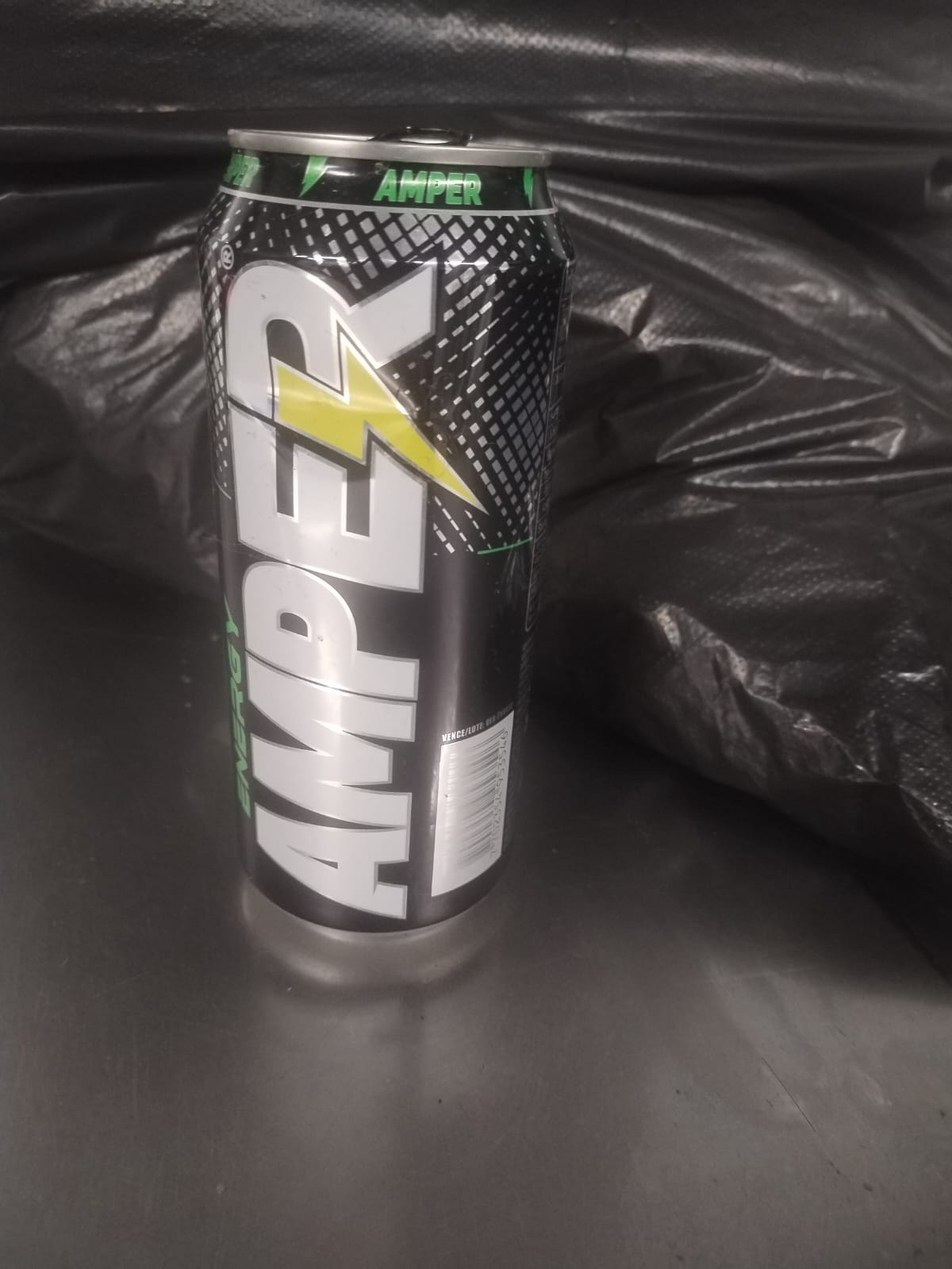Metal: (198, 126, 575, 949)
